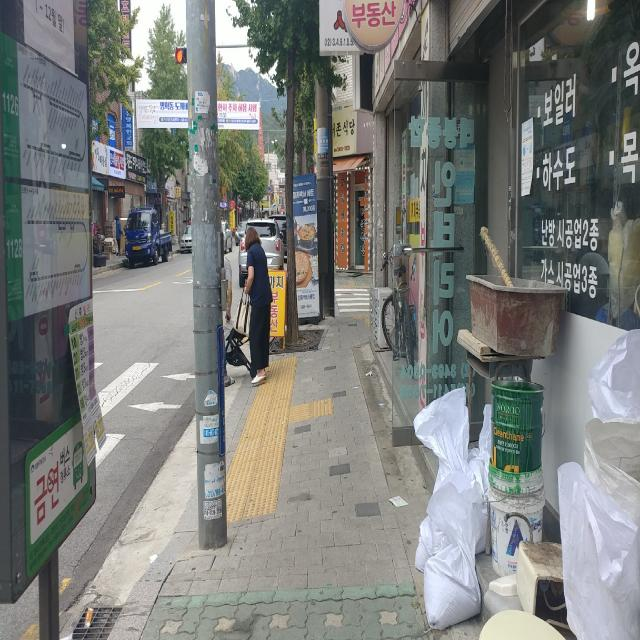횡단보도: (109, 372, 178, 427), (334, 288, 370, 312)
